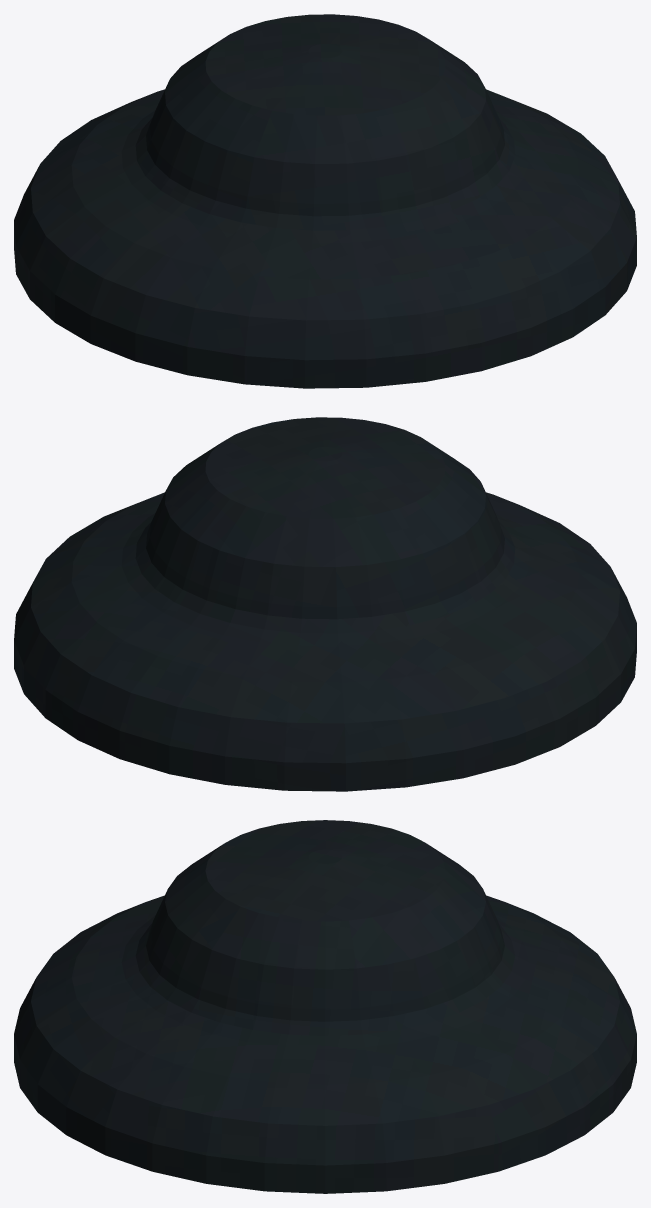
Rendered from warehouse6_lamp_mount.dae.
The picture shows the model from 3 angles, top to bottom: view 1: azimuth 30°, elevation 25°; view 2: azimuth 150°, elevation 25°; view 3: azimuth 270°, elevation 25°; orthographic projection.
Parts seen in each view (by area): view 1: warehouse6_part_20_00_single_lamp; view 2: warehouse6_part_20_00_single_lamp; view 3: warehouse6_part_20_00_single_lamp.
Boxes of the visible parts, x1,y1,x2,y2 form: warehouse6_part_20_00_single_lamp: [14, 14, 636, 388]; warehouse6_part_20_00_single_lamp: [14, 417, 636, 791]; warehouse6_part_20_00_single_lamp: [14, 820, 636, 1193].
Size of the model in its own units: 0.386 by 0.386 by 0.1404.
Materials: 1 (1 with a texture image).
